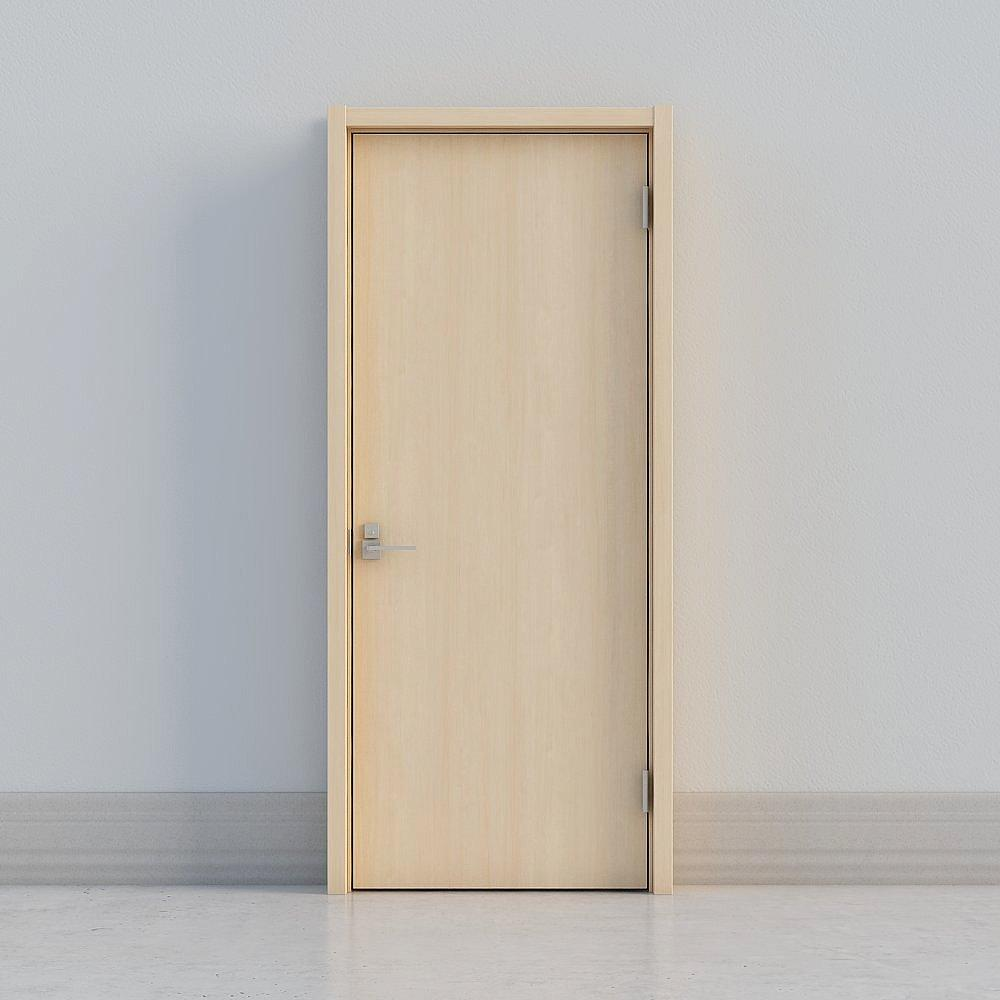door: (348, 125, 650, 894)
